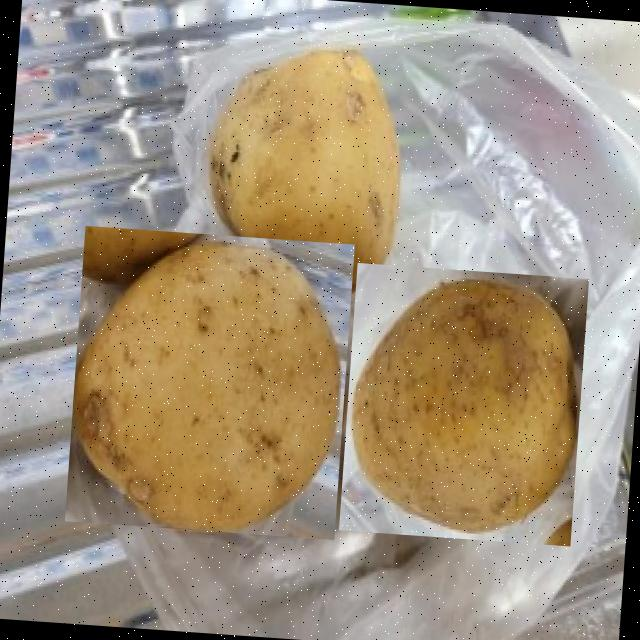Potato: (64, 226, 354, 540), (338, 262, 588, 546), (198, 37, 408, 296)
